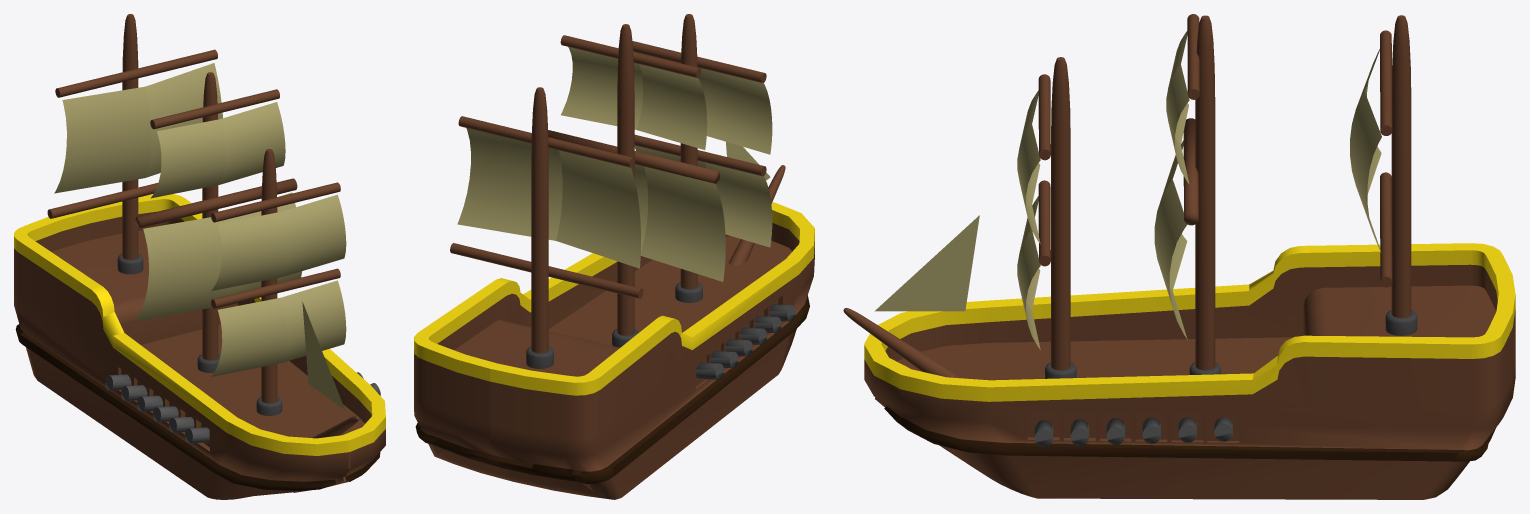
The model's file is Test_Ship_05.fbx.
The picture shows the model from 3 angles, left to right: view 1: azimuth 30°, elevation 25°; view 2: azimuth 150°, elevation 25°; view 3: azimuth 270°, elevation 25°; orthographic projection. The views are drawn at different scales.
Parts seen in each view (by area): view 1: Cylinder.020, Cylinder.005, Cylinder.006, Cylinder.004, Cylinder.007, Cylinder.003, Cylinder.008; view 2: Cylinder.020, Cylinder.005, Cylinder.004, Cylinder.003, Cylinder.006, Cylinder.007; view 3: Cylinder.020, Cylinder.008, Cylinder.003, Cylinder.005, Cylinder.006, Cylinder.004, Cylinder.007.
Part boxes in pixels (x1=…): Cylinder.020: x1=14, y1=14, x2=385, y2=499; Cylinder.005: x1=54, y1=63, x2=222, y2=193; Cylinder.006: x1=211, y1=194, x2=346, y2=290; Cylinder.004: x1=151, y1=102, x2=285, y2=198; Cylinder.007: x1=211, y1=280, x2=346, y2=376; Cylinder.003: x1=135, y1=192, x2=301, y2=321; Cylinder.008: x1=302, y1=301, x2=344, y2=409; Cylinder.020: x1=414, y1=14, x2=814, y2=499; Cylinder.005: x1=457, y1=128, x2=640, y2=268; Cylinder.004: x1=561, y1=47, x2=707, y2=149; Cylinder.003: x1=634, y1=164, x2=725, y2=281; Cylinder.006: x1=634, y1=52, x2=772, y2=154; Cylinder.007: x1=634, y1=145, x2=772, y2=247; Cylinder.020: x1=843, y1=14, x2=1515, y2=499; Cylinder.008: x1=875, y1=215, x2=979, y2=311; Cylinder.003: x1=1154, y1=140, x2=1187, y2=339; Cylinder.005: x1=1350, y1=49, x2=1381, y2=252; Cylinder.006: x1=1017, y1=90, x2=1040, y2=244; Cylinder.004: x1=1166, y1=31, x2=1189, y2=184; Cylinder.007: x1=1017, y1=196, x2=1040, y2=349.
Bounding box in the file's own units: 23172 × 39951 × 55579.
